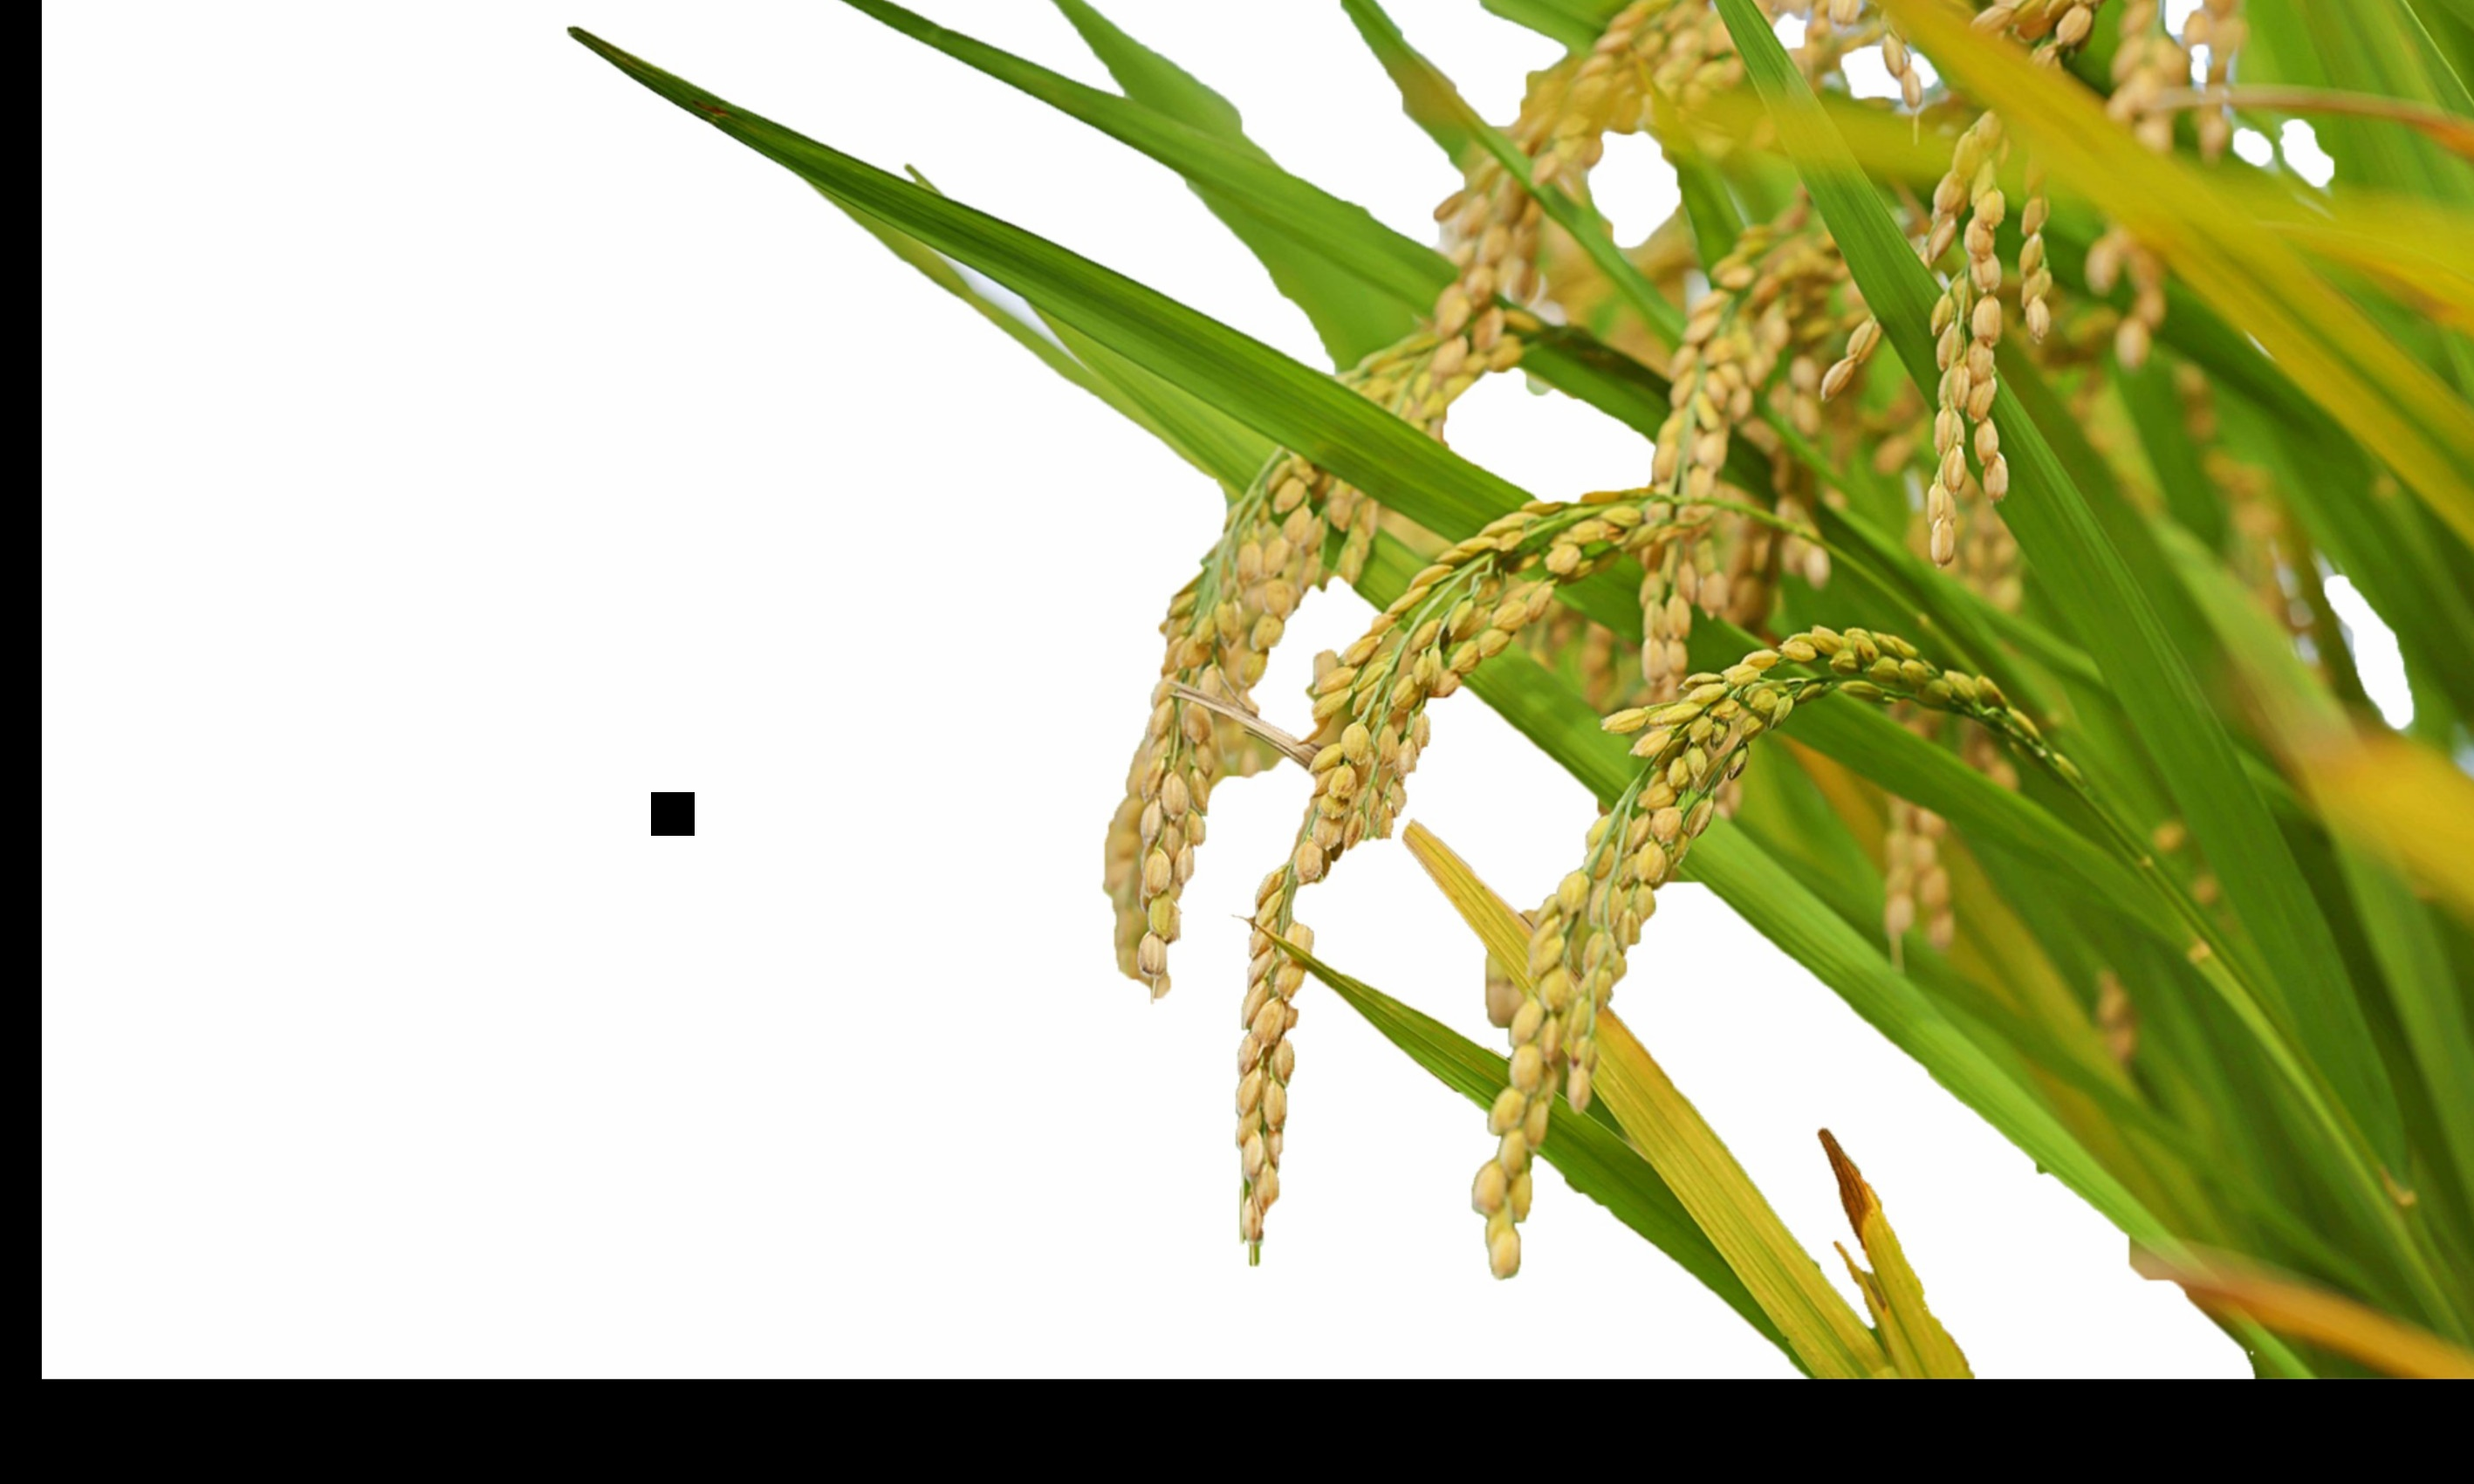rice: (1253, 456, 1864, 1254), (1484, 622, 1995, 1300), (1096, 302, 1472, 984)
